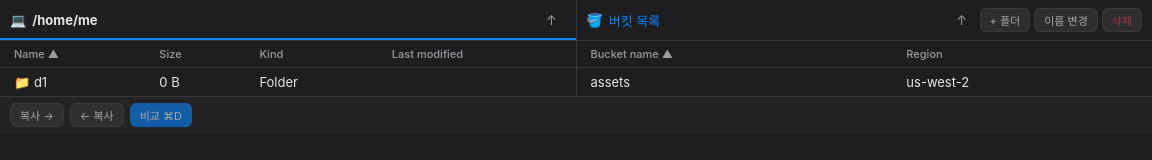
navigation history › meta+[ and meta+] navigate the focused pane; inactive tab ignores them
Double-click the text "📁 d1" at coordinates (31, 82), box x1=0 y1=68 x2=145 y2=96
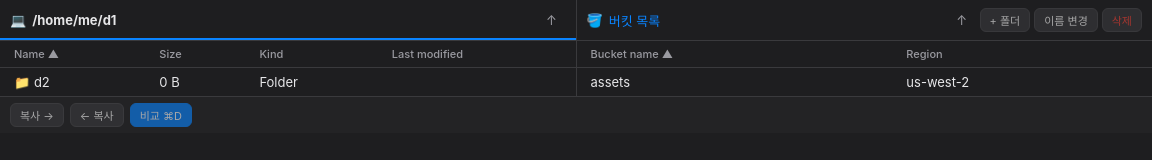
Double-click the text "📁 d2" at coordinates (32, 82), box x1=0 y1=68 x2=145 y2=96
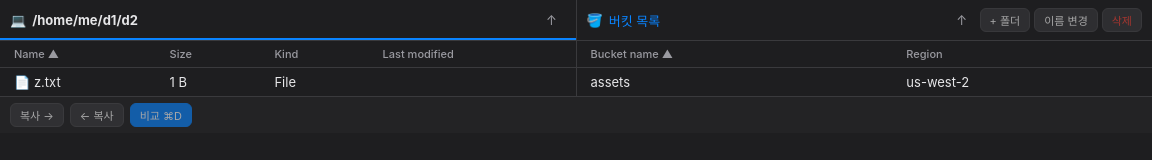
expect the text "📄 z.txt" is shown: met, box x1=0 y1=68 x2=156 y2=96
Press [
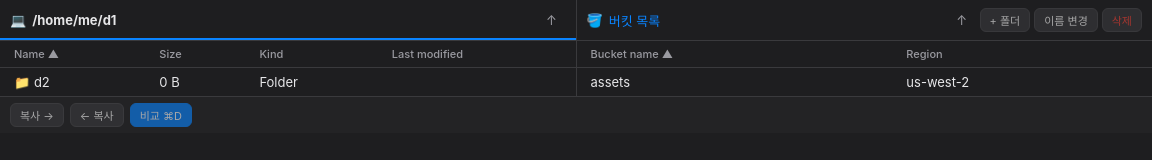
expect the text "📁 d2" is shown: met, box x1=0 y1=68 x2=145 y2=96
Press ]
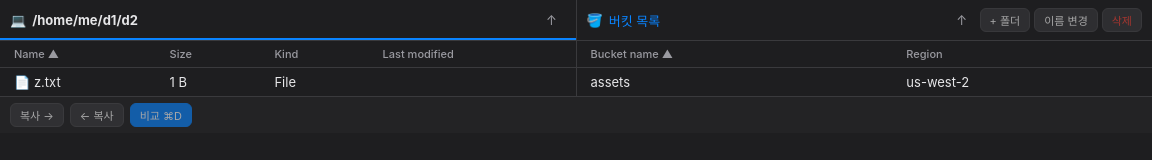
expect the text "📄 z.txt" is shown: met, box x1=0 y1=68 x2=156 y2=96
